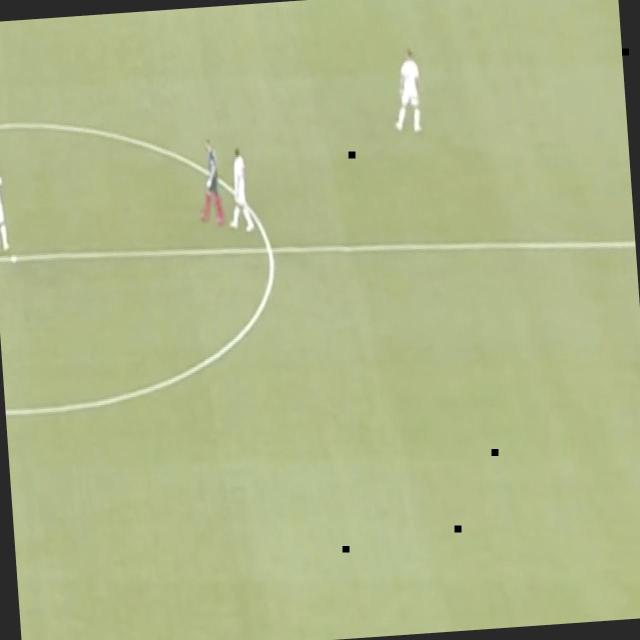player-white: (388, 41, 428, 139), (191, 131, 229, 232), (221, 143, 257, 237), (0, 156, 13, 256)
